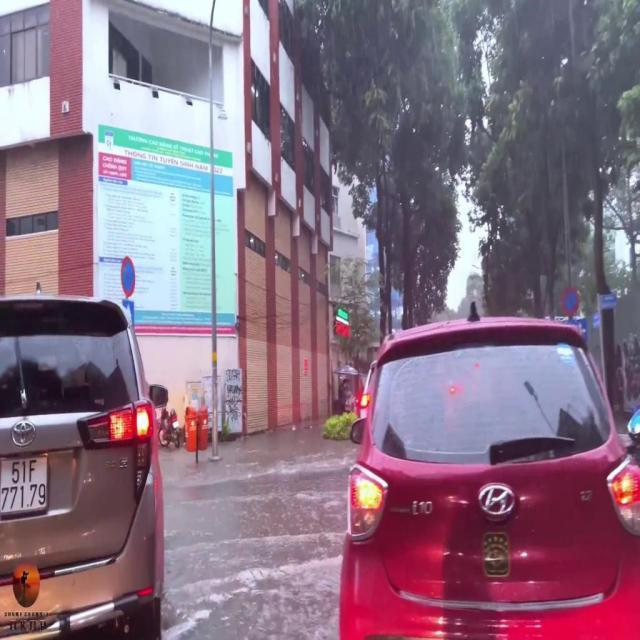131a-cam-do-xe: (118, 256, 136, 297), (560, 288, 580, 316)
407a-duong-mot-chieu: (124, 300, 134, 326)
